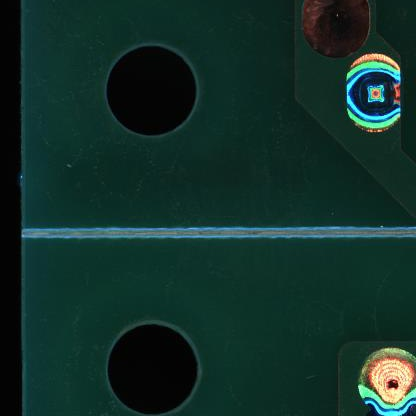spot: (344, 53, 402, 135)
